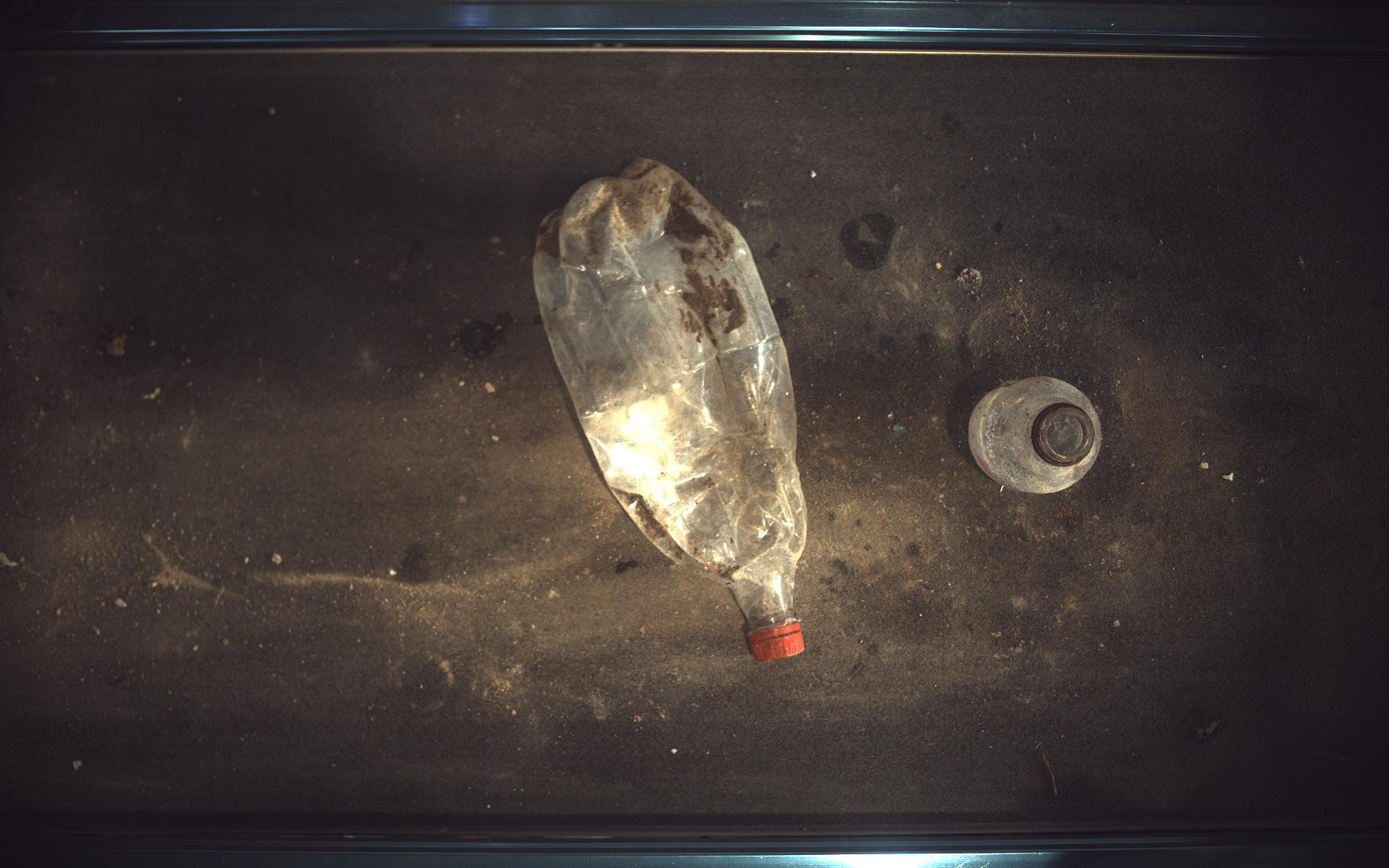general_w: (534, 158, 808, 662), (971, 376, 1104, 494)
